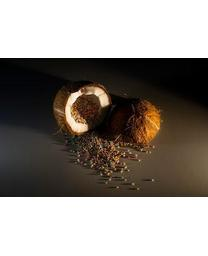coconut: (53, 80, 112, 137), (113, 96, 161, 146)
